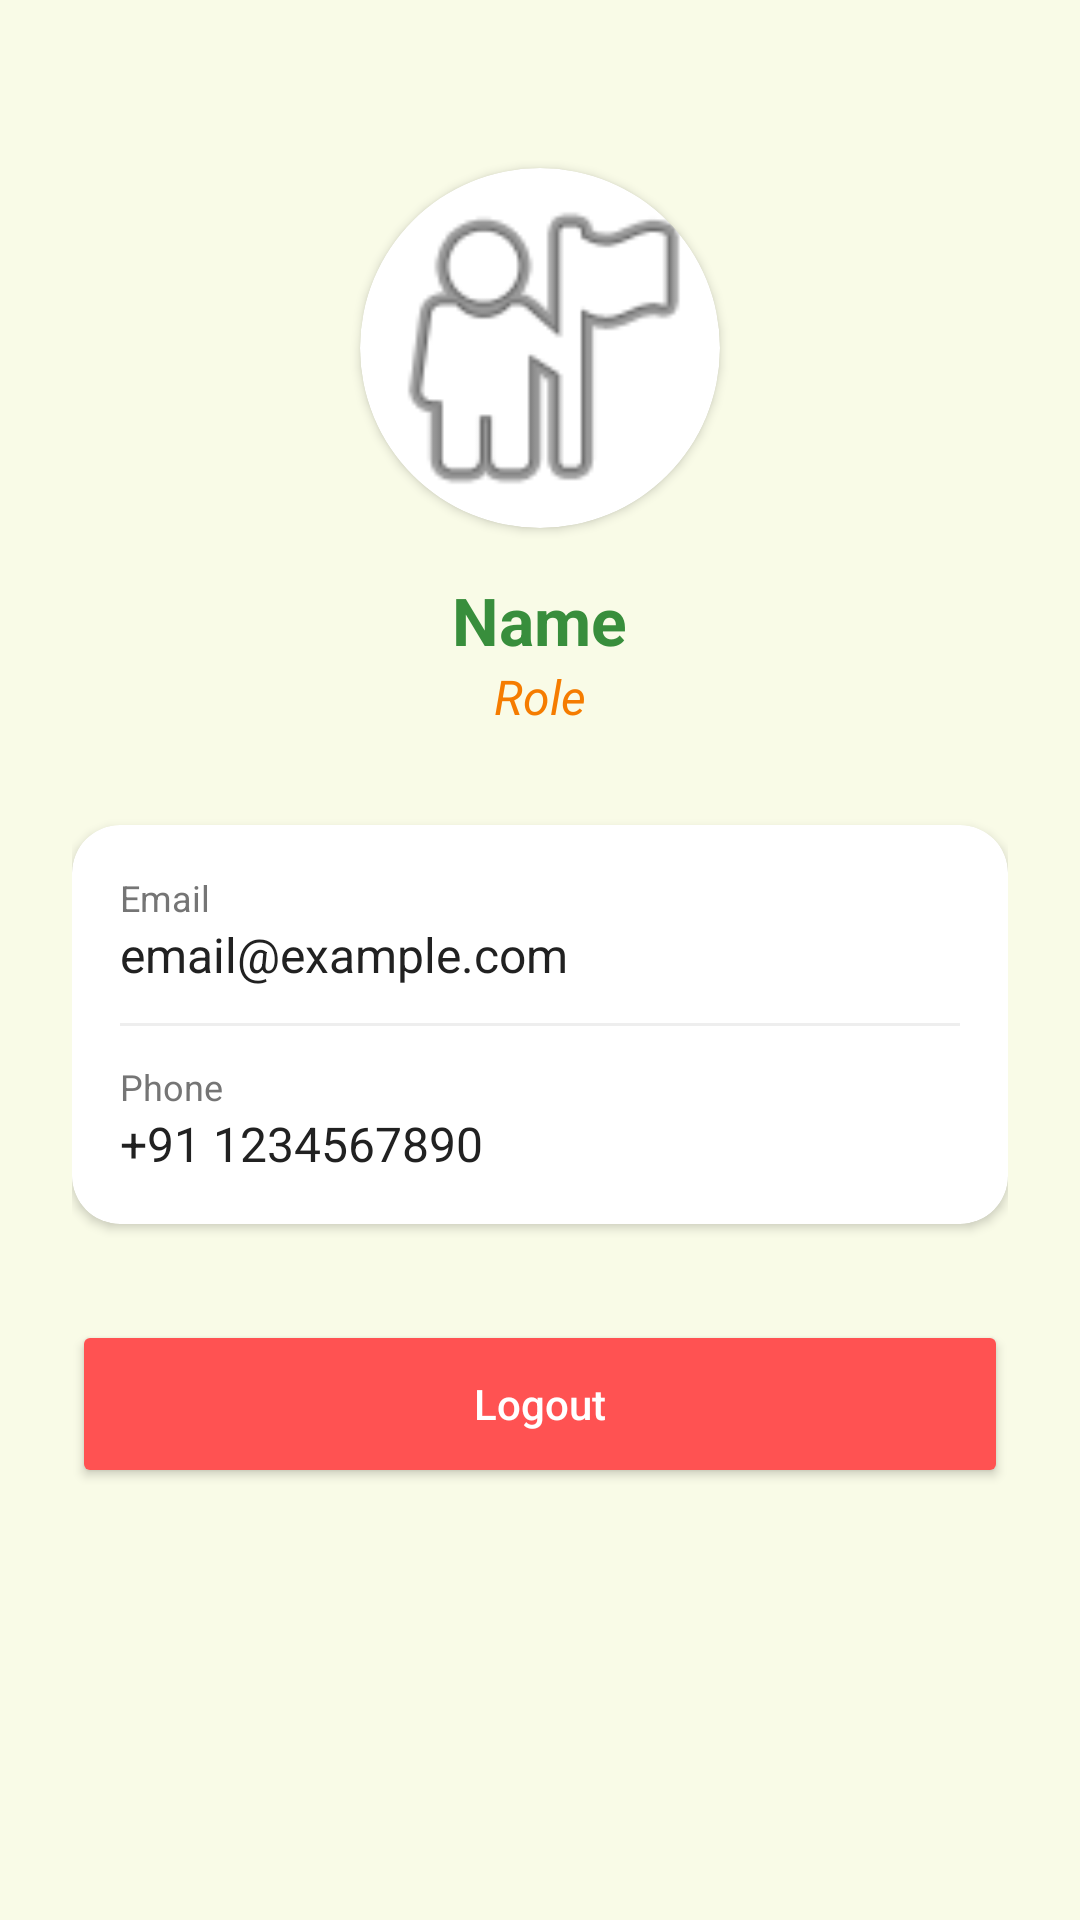

Icon bounding boxes for this 1080 × 1920 phone screenshot, format (x1, y1, x2, y2):
Profile Image: (361, 168, 719, 528)
